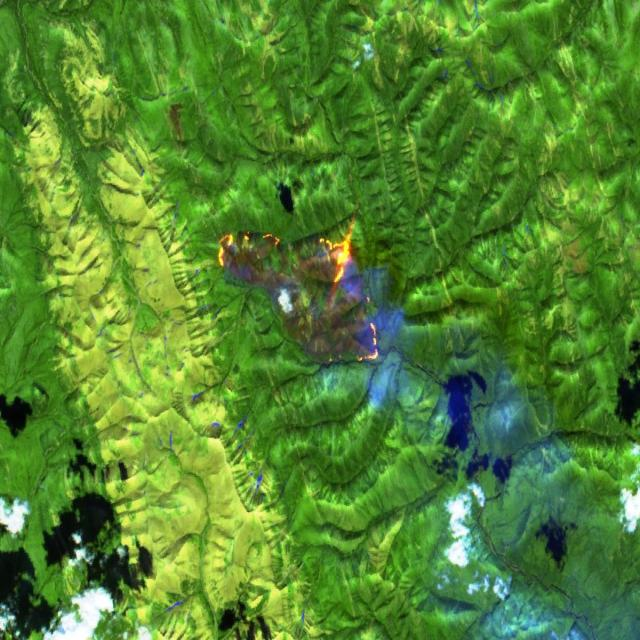fire: (214, 213, 383, 364)
